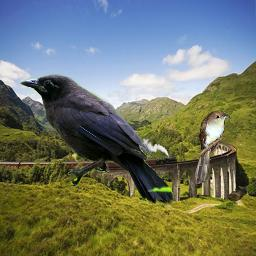Crow: (20, 74, 175, 205)
Cuckoo: (194, 110, 230, 184)
